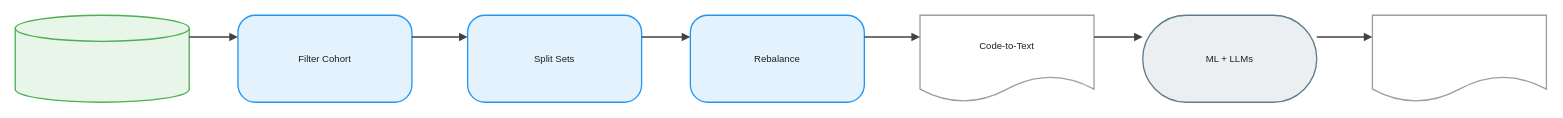
Some shapes in this 1563 by 118 pixel diagram are drawn without their labels. Each missing label, with the centre of its shape:
"F1 / AUROC" belongs at point 1459,58.
"MIMIC Data" belongs at point 101,58.
